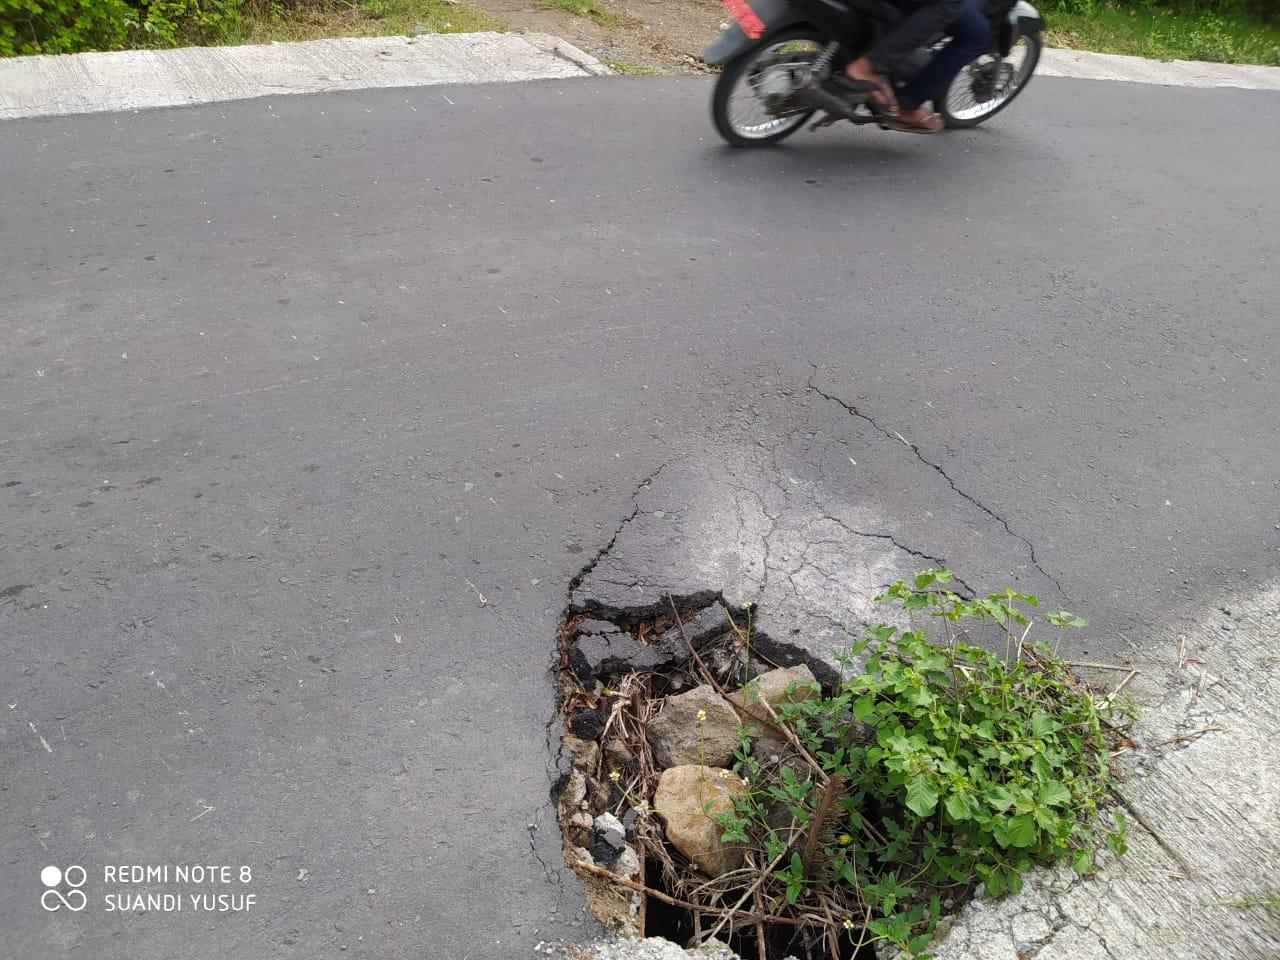Pothole: (436, 391, 1230, 960)
